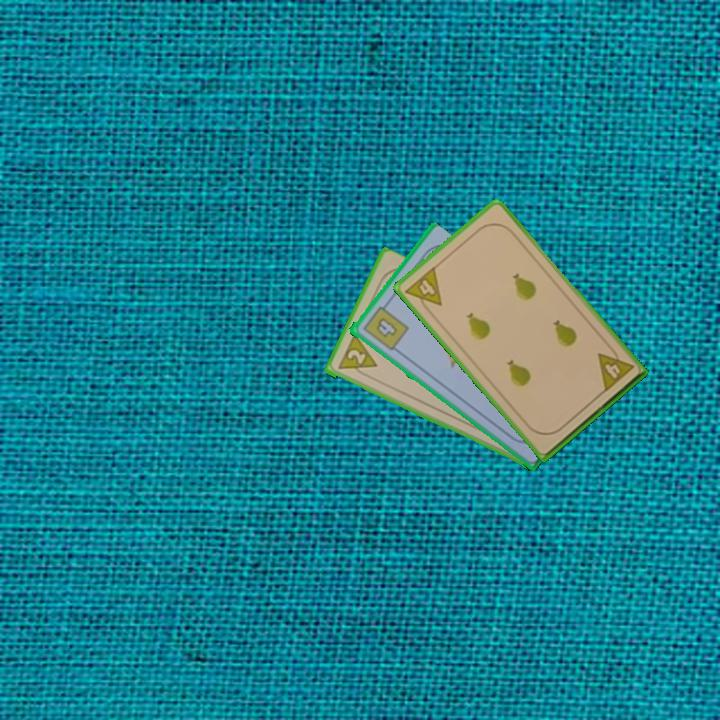2p: (334, 332, 380, 380)
4b: (359, 299, 411, 353)
4p: (401, 263, 445, 317), (594, 342, 636, 395)
